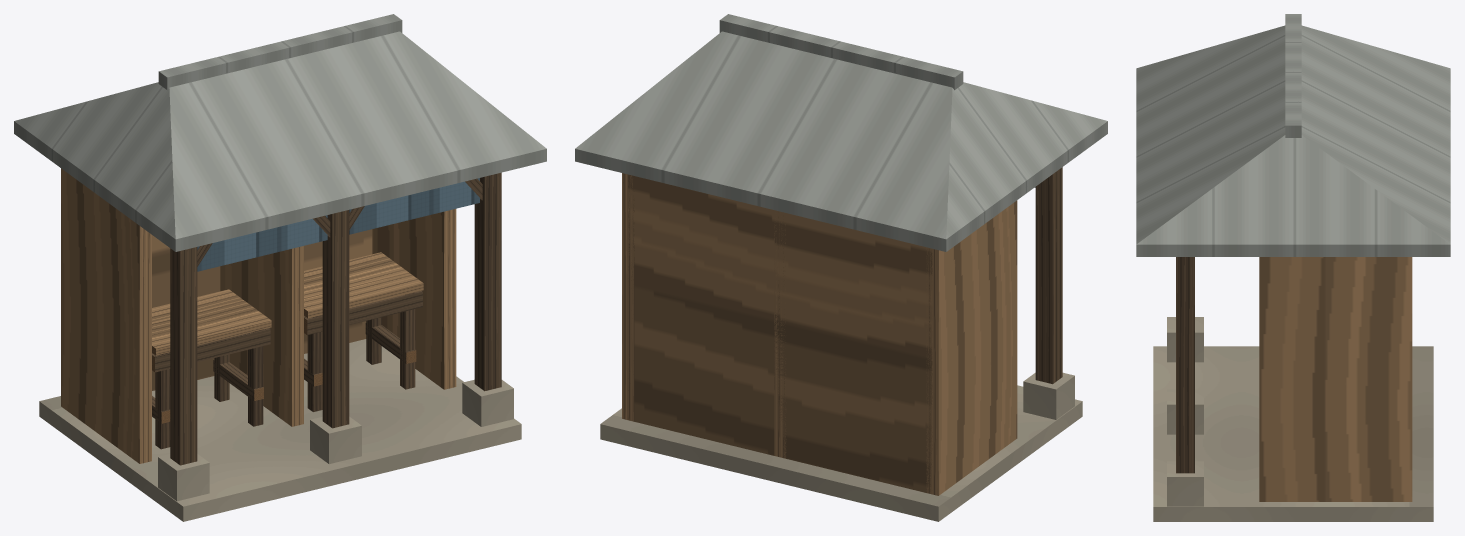
Rendered from chisinau.glb.
3 renders of one model, left to right at view 1: azimuth 30°, elevation 25°; view 2: azimuth 150°, elevation 25°; view 3: azimuth 270°, elevation 25°, orthographic. The views are drawn at different scales.
Visible parts, largest first — view 1: chisinau; view 2: chisinau; view 3: chisinau.
Boxes of the visible parts, left/top/right/bottom form: chisinau: left=14, top=14, right=546, bottom=521; chisinau: left=575, top=14, right=1107, bottom=521; chisinau: left=1136, top=14, right=1450, bottom=521.
Bounding box in the file's own units: 2.54 × 2.5 × 1.92.
Materials: 1 (1 with a texture image).
